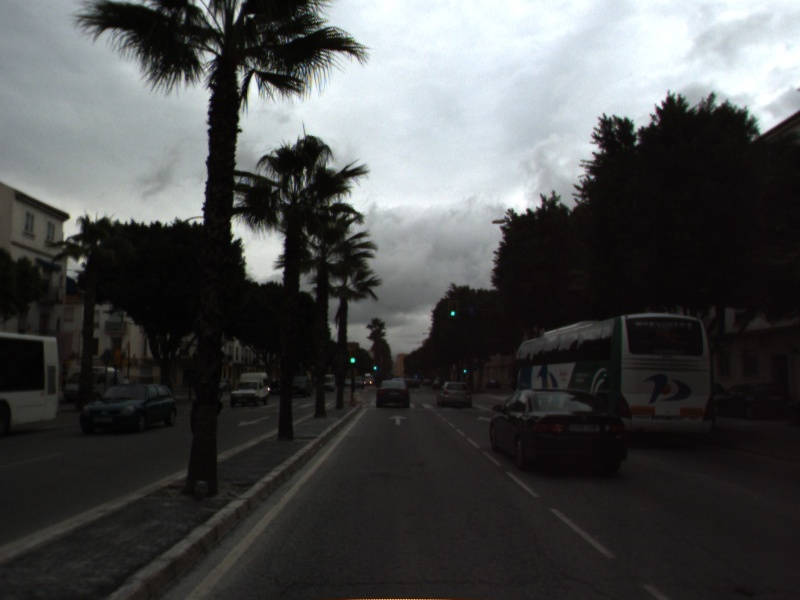STRAIGHT: (387, 413, 410, 426)
